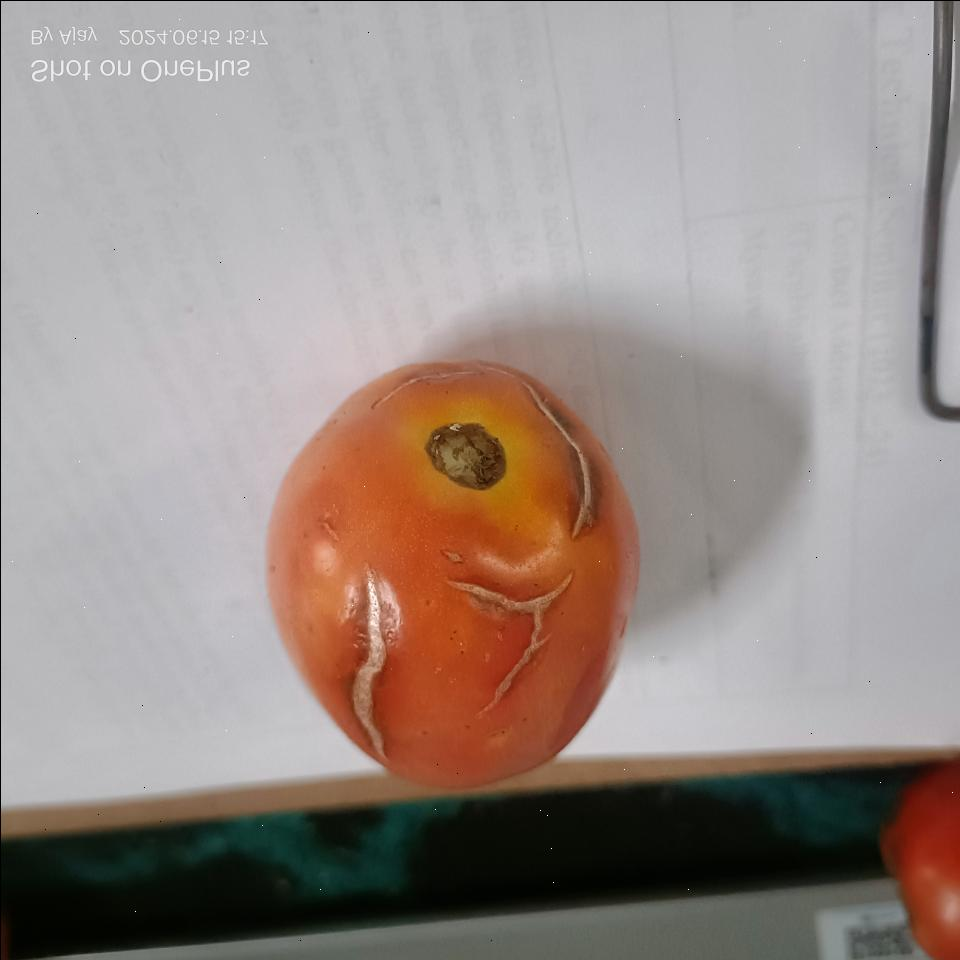Cracking: (447, 566, 593, 721), (525, 381, 609, 530), (351, 572, 386, 759)
